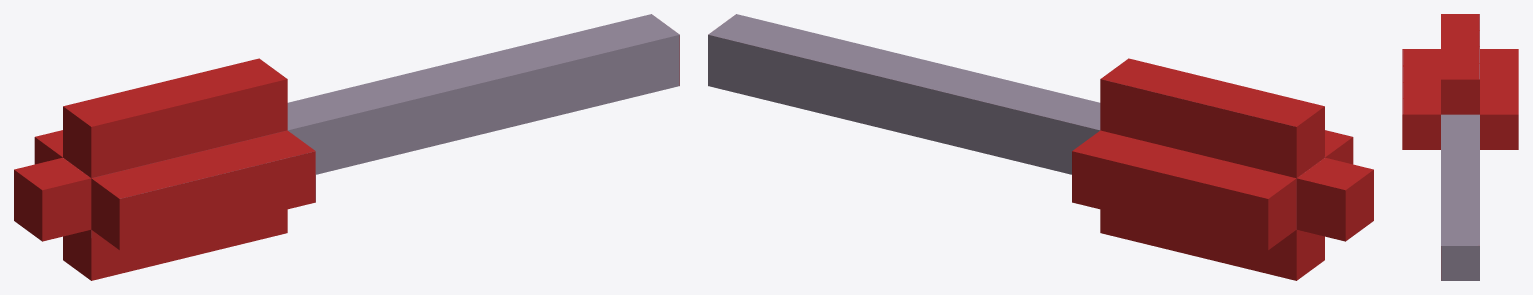
The model's file is IKEA_Destornillador.fbx.
3 views of the same model, side by side, from view 1: azimuth 30°, elevation 25°; view 2: azimuth 150°, elevation 25°; view 3: azimuth 270°, elevation 25° (orthographic). The views are drawn at different scales.
Parts seen in each view (by area): view 1: IKEA_Destornillador; view 2: IKEA_Destornillador; view 3: IKEA_Destornillador.
Boxes of the visible parts, box(x1,y1,x2,y2) form: IKEA_Destornillador: box(14, 14, 679, 280); IKEA_Destornillador: box(708, 14, 1373, 280); IKEA_Destornillador: box(1402, 14, 1518, 280).
Bounding box in the file's own units: 130 × 30 × 30.
